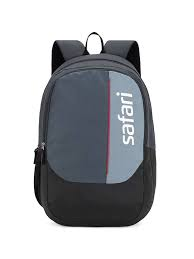backpack: (32, 31, 156, 227)
